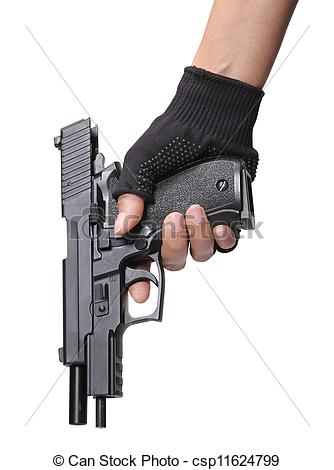pistol: (27, 101, 294, 437)
